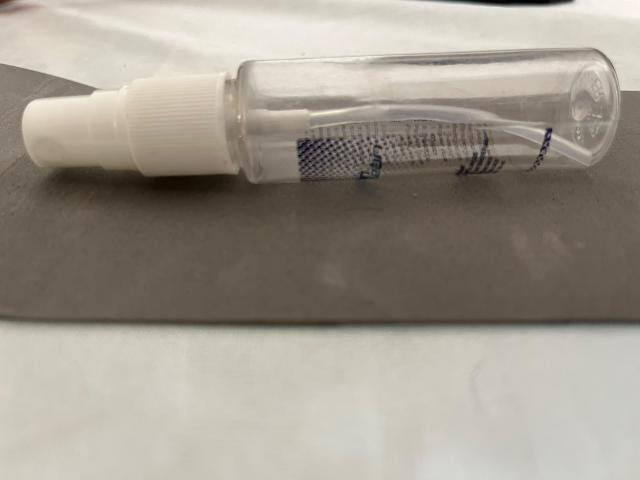PET: (13, 38, 640, 298)
